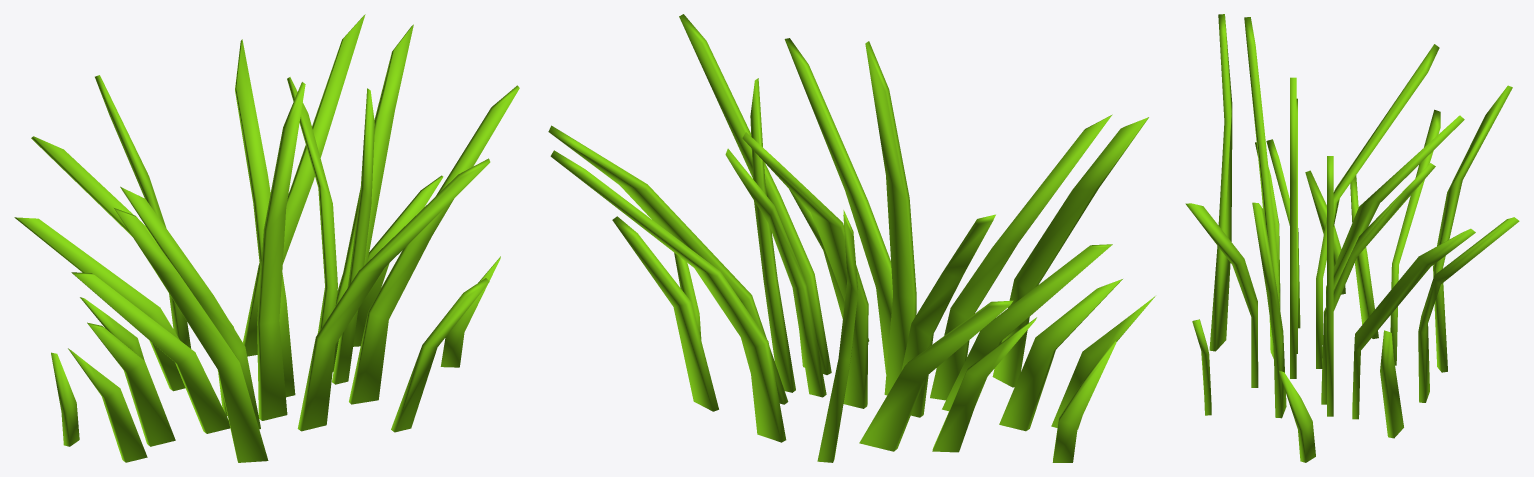
File: Grass002.fbx
The picture shows the model from 3 angles, left to right: view 1: azimuth 30°, elevation 25°; view 2: azimuth 150°, elevation 25°; view 3: azimuth 270°, elevation 25°; orthographic projection. The views are drawn at different scales.
Parts seen in each view (by area): view 1: Grass_Large_Extruded; view 2: Grass_Large_Extruded; view 3: Grass_Large_Extruded.
Boxes of the visible parts, x1,y1,x2,y2 form: Grass_Large_Extruded: (14, 14, 519, 462); Grass_Large_Extruded: (548, 14, 1155, 462); Grass_Large_Extruded: (1185, 14, 1519, 462).
Size of the model in its own units: 83.86 by 57.3 by 56.
Materials: 1 (1 with a texture image).
